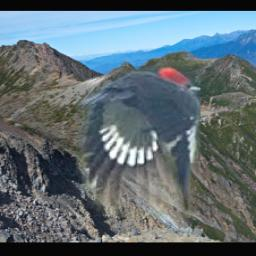Woodpecker: (76, 66, 200, 218)
